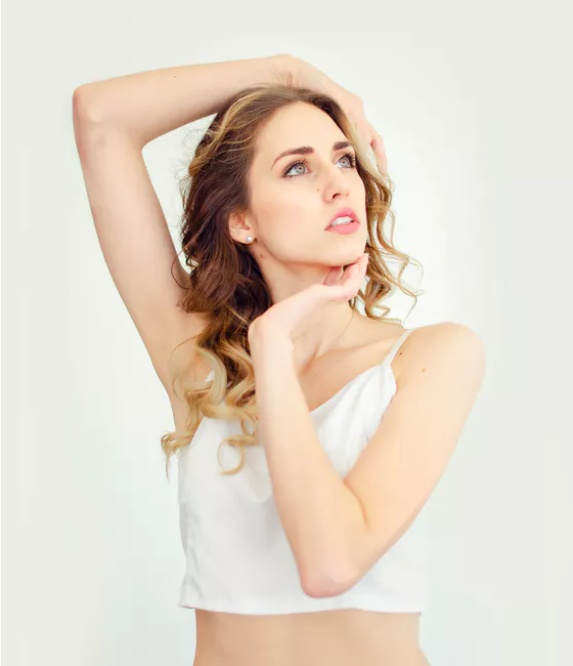face: (255, 103, 368, 263)
